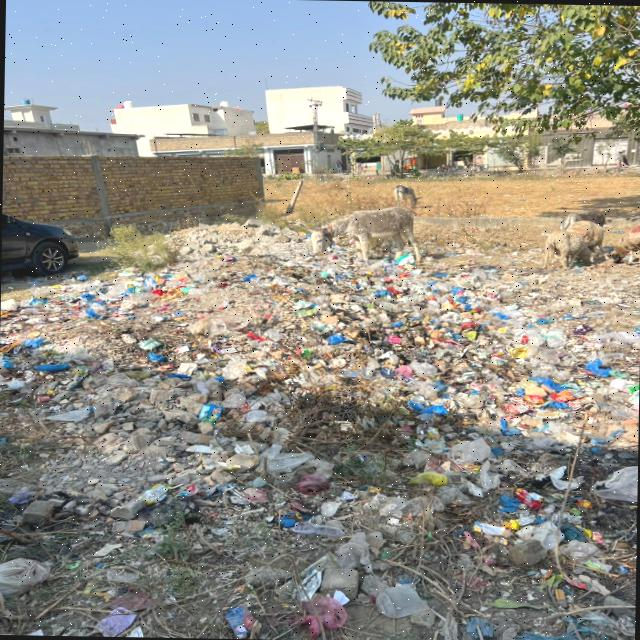garbage: (0, 259, 628, 574)
